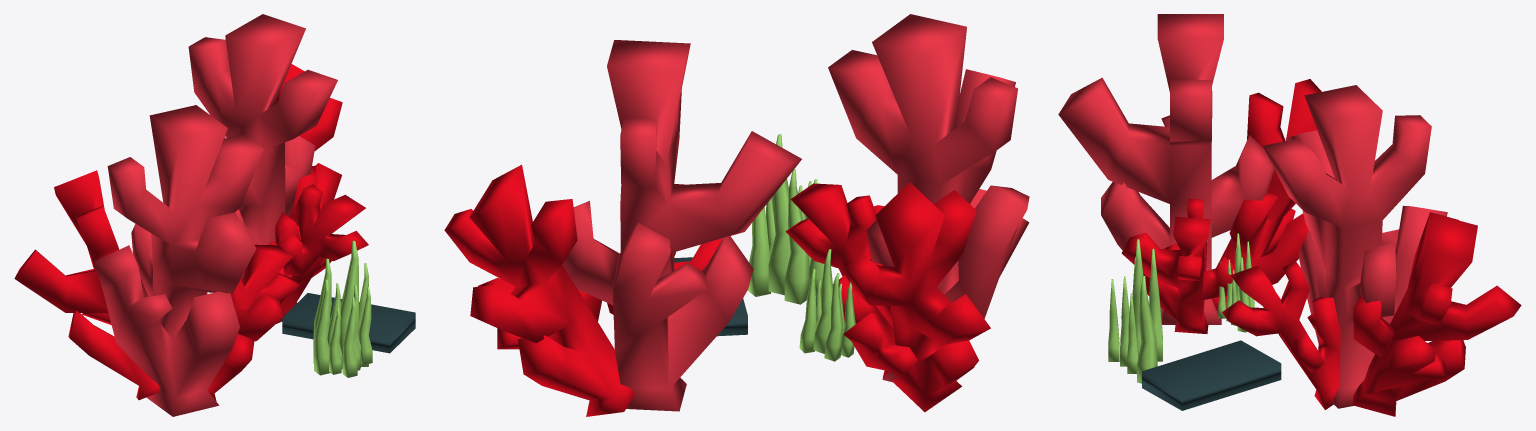
The model's file is coral-enviornment-red.glb.
The picture shows the model from 3 angles, left to right: view 1: azimuth 30°, elevation 25°; view 2: azimuth 150°, elevation 25°; view 3: azimuth 270°, elevation 25°; orthographic projection. The views are drawn at different scales.
Parts seen in each view (by area): view 1: Coral, Coral.001, grass.001, stone; view 2: Coral.001, Coral, grass.001, grass, stone; view 3: Coral.001, Coral, stone, grass.001, grass.
Boxes of the visible parts, x1,y1,x2,y2 form: Coral: [14, 105, 299, 416]; Coral.001: [188, 14, 368, 323]; grass.001: [313, 240, 372, 377]; stone: [282, 293, 415, 353]; Coral.001: [444, 40, 801, 416]; Coral: [785, 14, 1029, 412]; grass.001: [747, 134, 824, 304]; grass: [799, 249, 855, 361]; stone: [674, 257, 747, 336]; Coral.001: [1222, 85, 1521, 416]; Coral: [1058, 14, 1321, 333]; stone: [1142, 340, 1281, 410]; grass.001: [1108, 239, 1162, 383]; grass: [1218, 233, 1254, 332].
Bounding box in the file's own units: 6.3 × 4.49 × 6.27.
